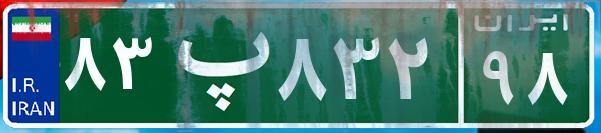2: (385, 28, 445, 110)
3: (330, 28, 385, 110), (110, 28, 158, 105)
8: (273, 28, 330, 110), (57, 26, 110, 107), (525, 38, 570, 115)
9: (475, 38, 525, 113)
پ: (158, 15, 273, 115)
